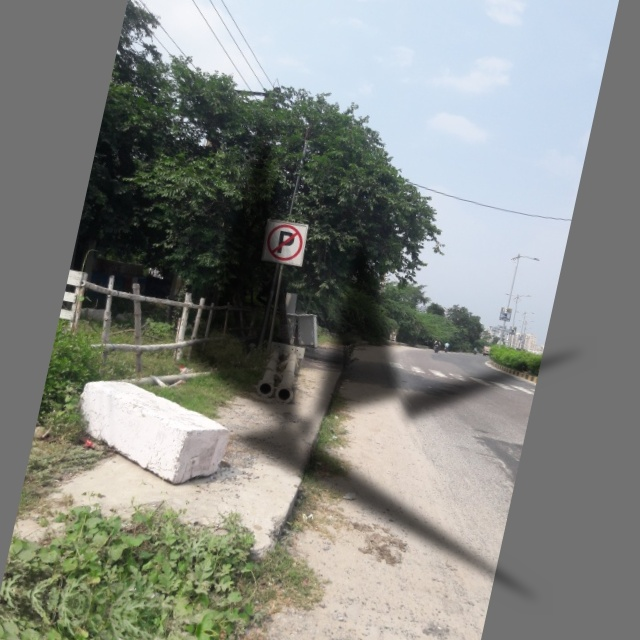No_Parking: (257, 215, 312, 272)
